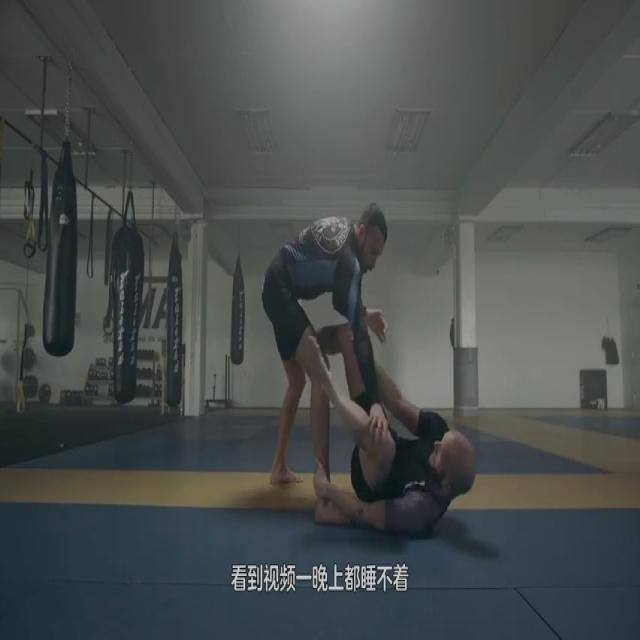fight: (243, 193, 492, 550)
